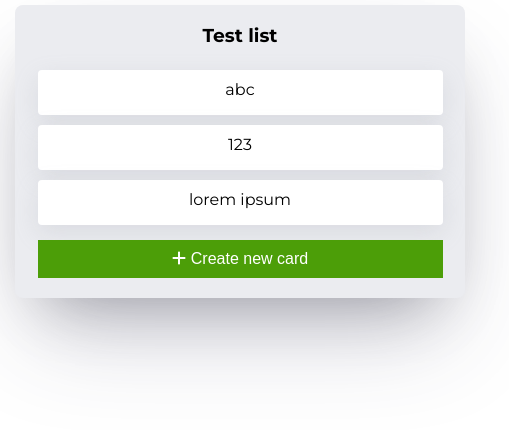
List component › Should allow user to cancel new card creation on button click
The image size is (509, 430).
Click the button "Create new card" at (240, 259), box [38,240,442,278]
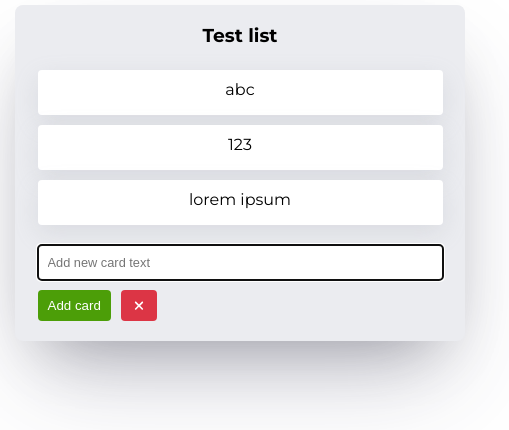
Click the button with test id "list-cancel-button" at (139, 306), box [121,290,157,321]
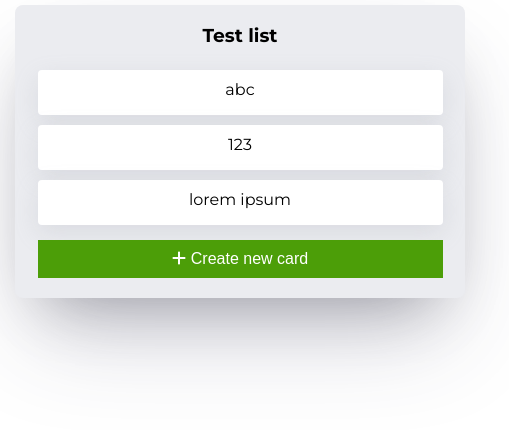
Result: the button with test id "list-cancel-button" is gone
